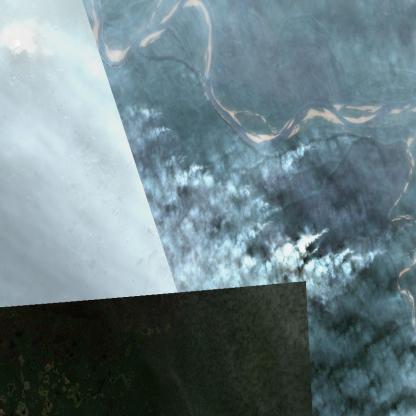fire: (237, 137, 387, 272), (124, 105, 232, 277)
